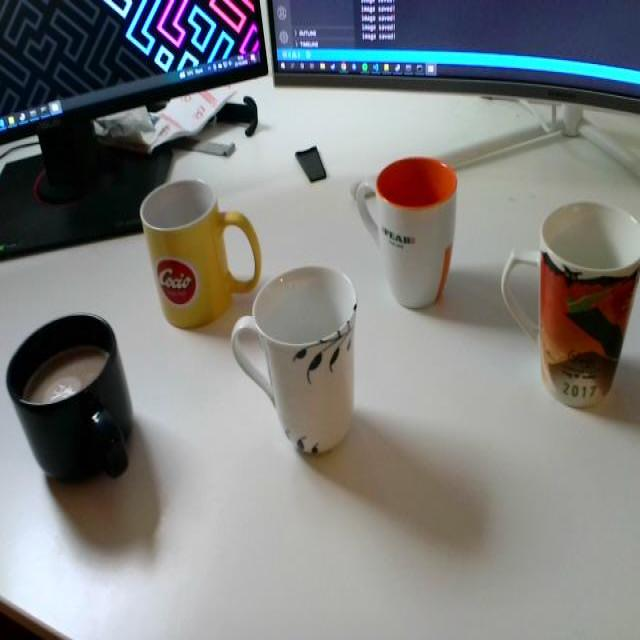cup: (498, 177, 640, 420), (229, 250, 369, 473), (5, 300, 145, 497), (131, 168, 260, 337), (354, 142, 460, 313)
